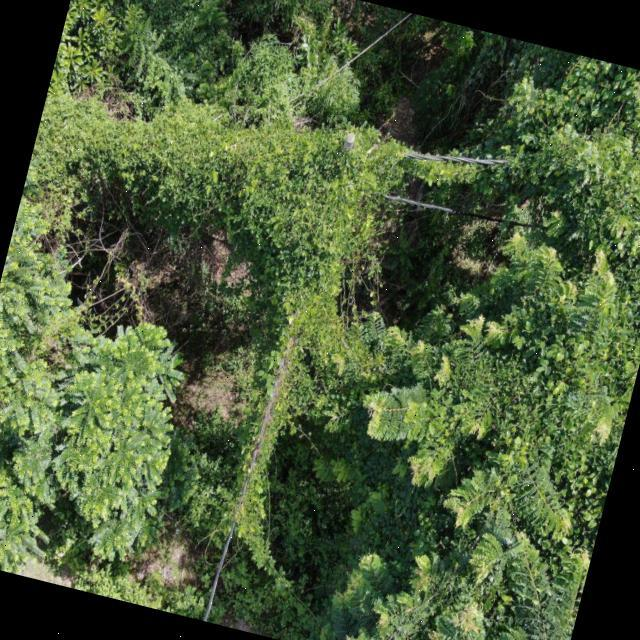critical vegetation: (56, 63, 389, 466)
